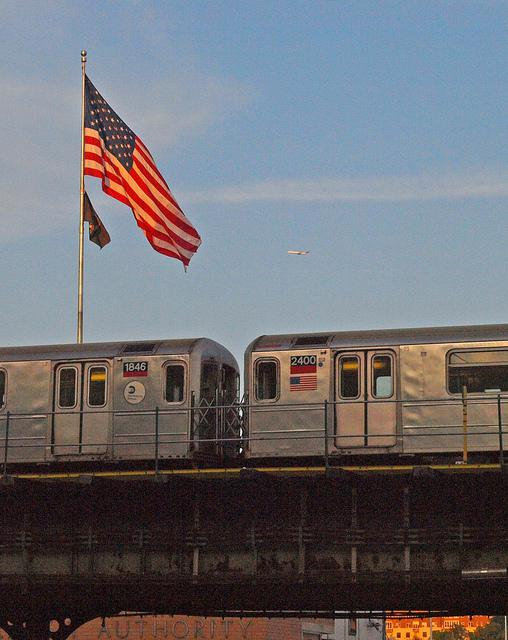Train: (5, 321, 508, 465)
